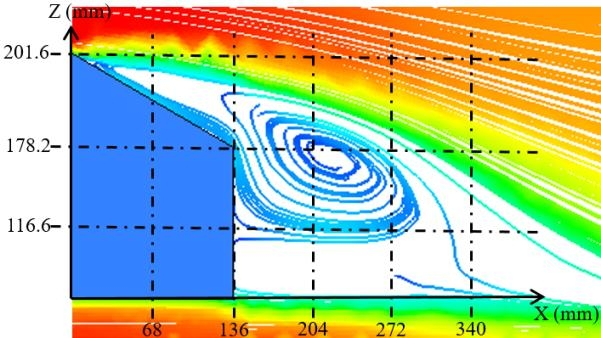vortox: (249, 109, 415, 239)
